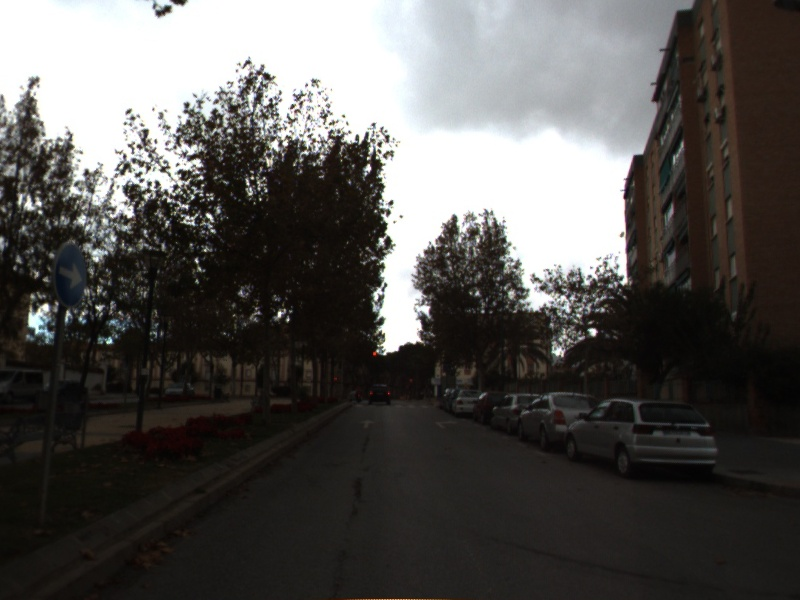RIGHT: (432, 418, 460, 431)
STRAIGHT: (356, 417, 378, 430)
